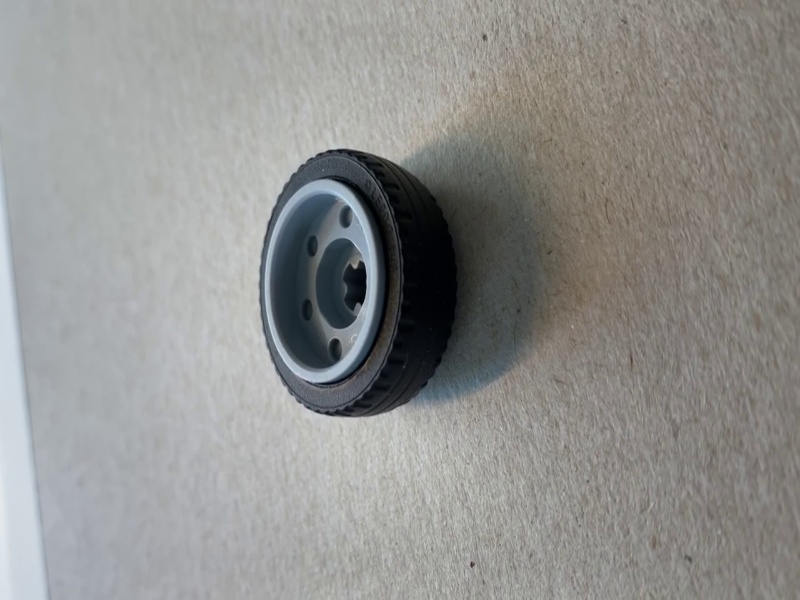tire: (257, 149, 460, 416)
